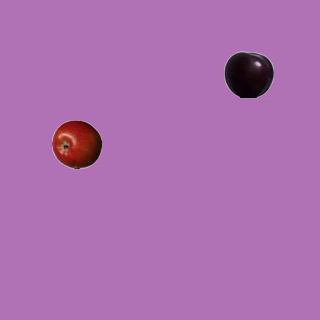Apple Braeburn: (51, 119, 101, 169)
Cherry Wax Black: (223, 49, 273, 99)
